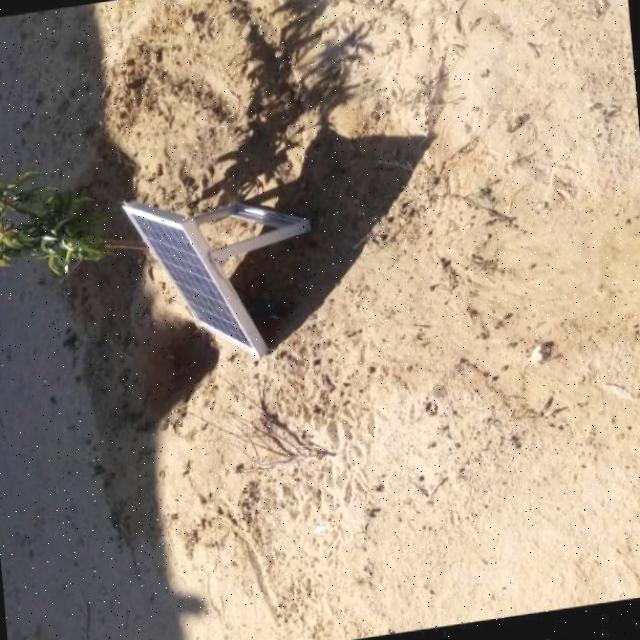Normal Solar Panel: (120, 190, 258, 378)
